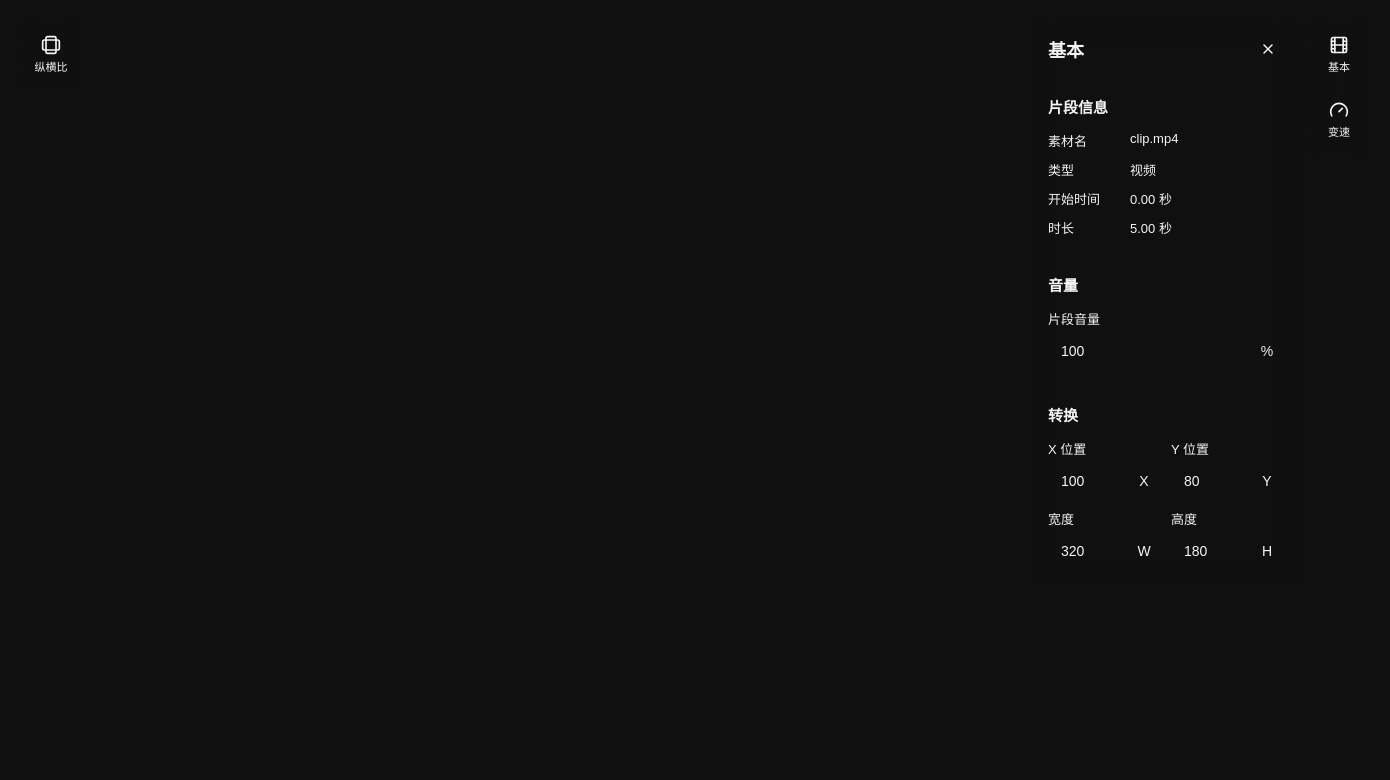
Test: PreviewPanel › clears the selected clip when pointer starts on empty composition content
The width and height of the screenshot is (1390, 780).
Expected: the navigation bar named "属性分类" is shown, [1313,25,1365,150]
Press the mouse on the drawing named "视频预览" at (695, 319), box [12,12,1378,627]
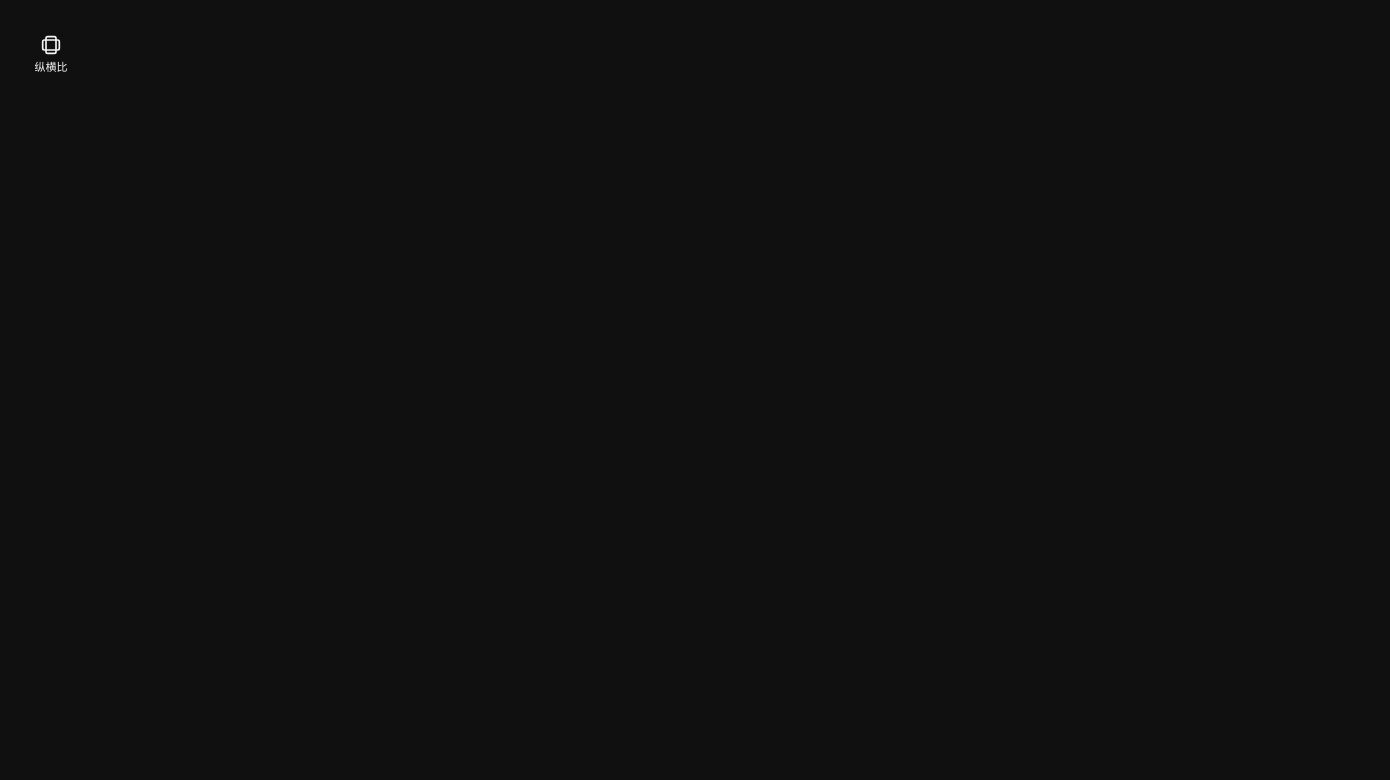
Now the navigation bar "属性分类" is gone
